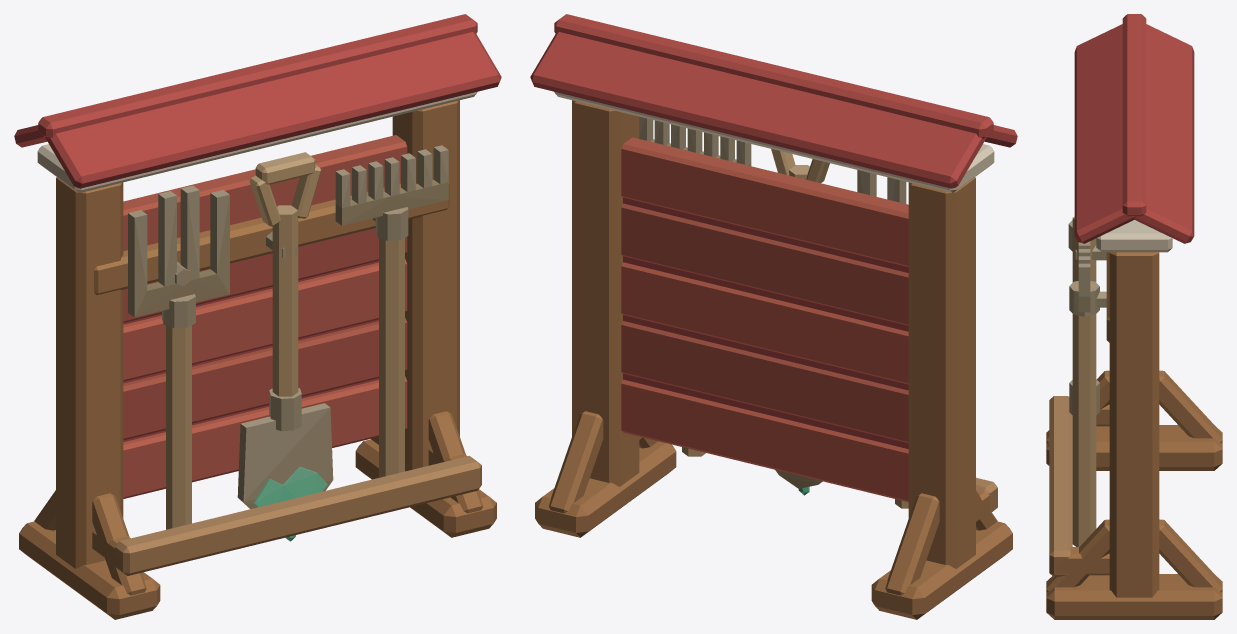
File: ranch_tool_rack.fbx
3 views of the same model, side by side, from view 1: azimuth 30°, elevation 25°; view 2: azimuth 150°, elevation 25°; view 3: azimuth 270°, elevation 25° (orthographic). The views are drawn at different scales.
Parts seen in each view (by area): view 1: ranch_tool_rack; view 2: ranch_tool_rack; view 3: ranch_tool_rack.
Part boxes in pixels (x1,y1,x2,y2): ranch_tool_rack: (14, 14, 501, 619); ranch_tool_rack: (530, 14, 1017, 619); ranch_tool_rack: (1046, 14, 1222, 619).
Bounding box in the file's own units: 7.7 × 8.07 × 3.
